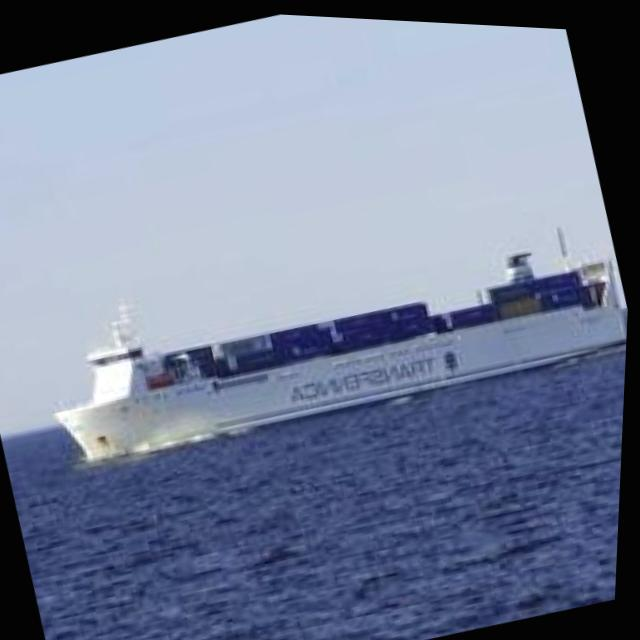ship2: (55, 241, 630, 468)
